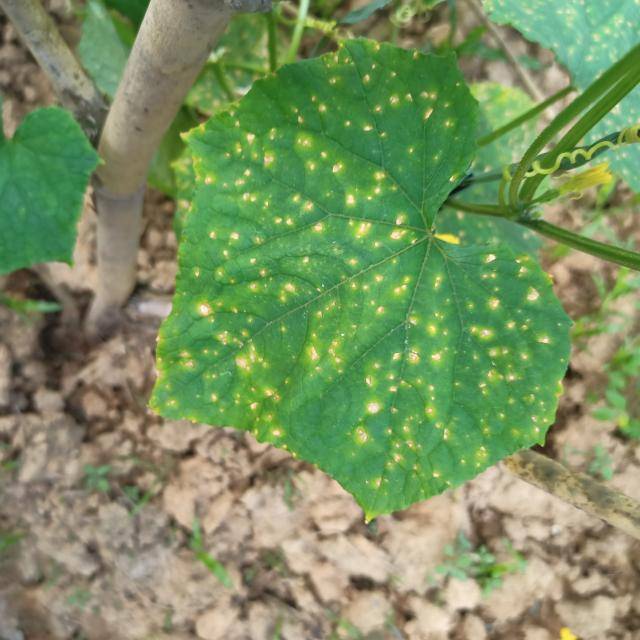disease_cucumber: (169, 55, 561, 487)
